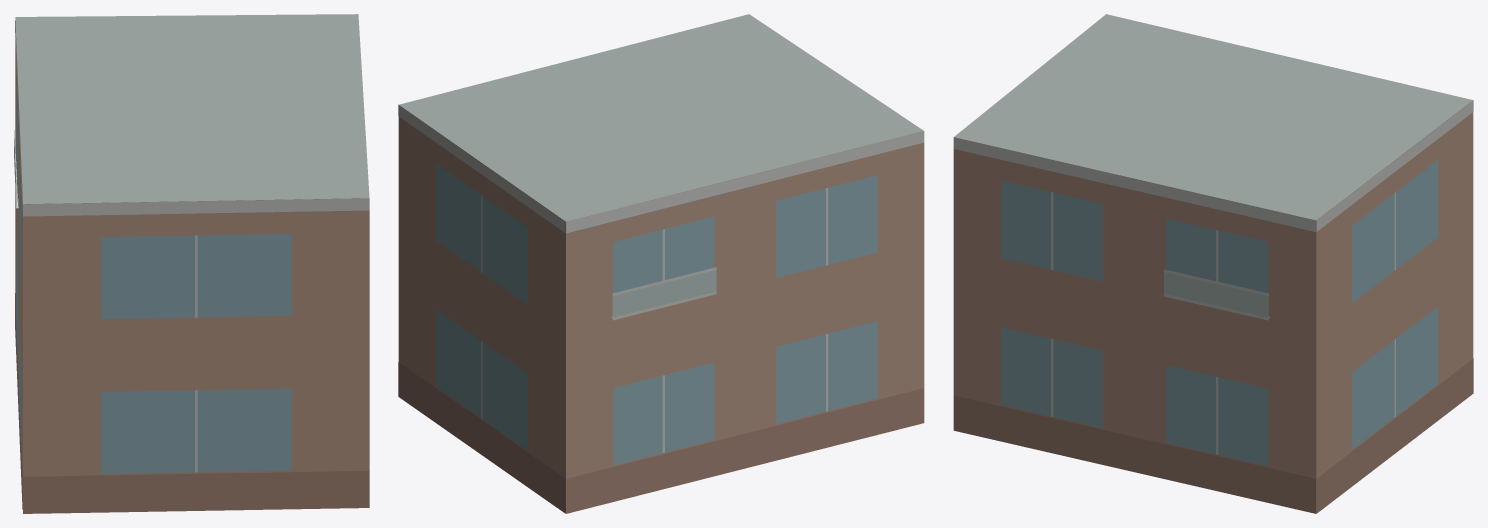
Rendered from survey-upis-32781228.glb.
The picture shows the model from 3 angles, left to right: view 1: azimuth 30°, elevation 25°; view 2: azimuth 150°, elevation 25°; view 3: azimuth 270°, elevation 25°; orthographic projection. The views are drawn at different scales.
Visible parts, largest first — view 1: survey-upis-32781228.tmp; view 2: survey-upis-32781228.tmp; view 3: survey-upis-32781228.tmp.
Part boxes in pixels (x1,y1,x2,y2): survey-upis-32781228.tmp: (14, 14, 369, 513); survey-upis-32781228.tmp: (398, 14, 924, 513); survey-upis-32781228.tmp: (953, 14, 1473, 513).
Size of the model in its own units: 9.21 by 6.1 by 9.8.
